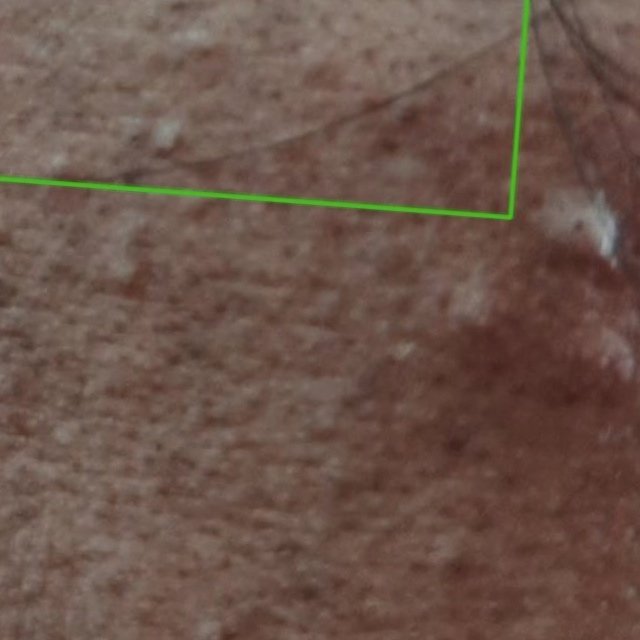Atopic Dermatitis: (0, 0, 527, 217)
